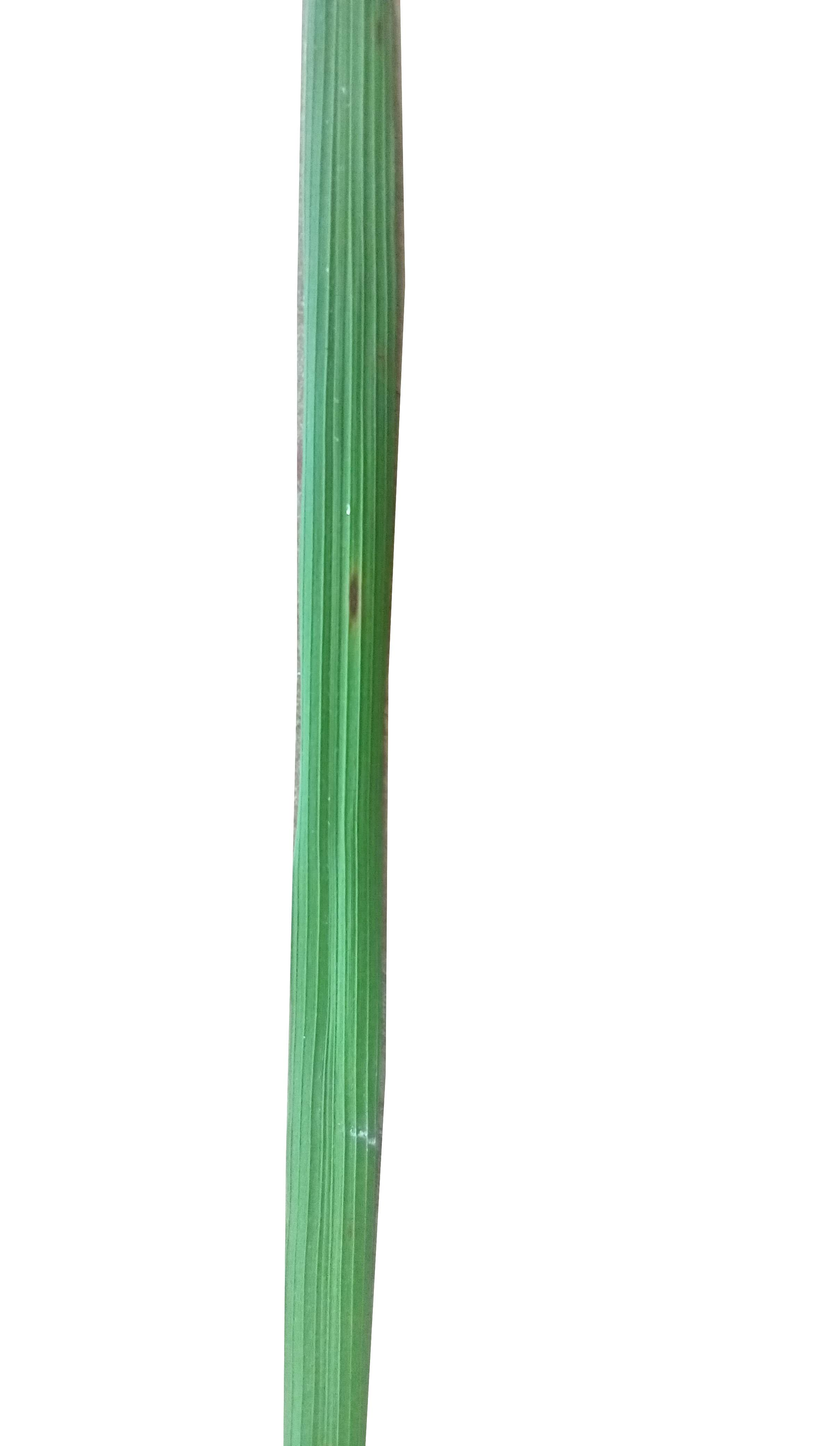Brown spot: (330, 549, 386, 640)
